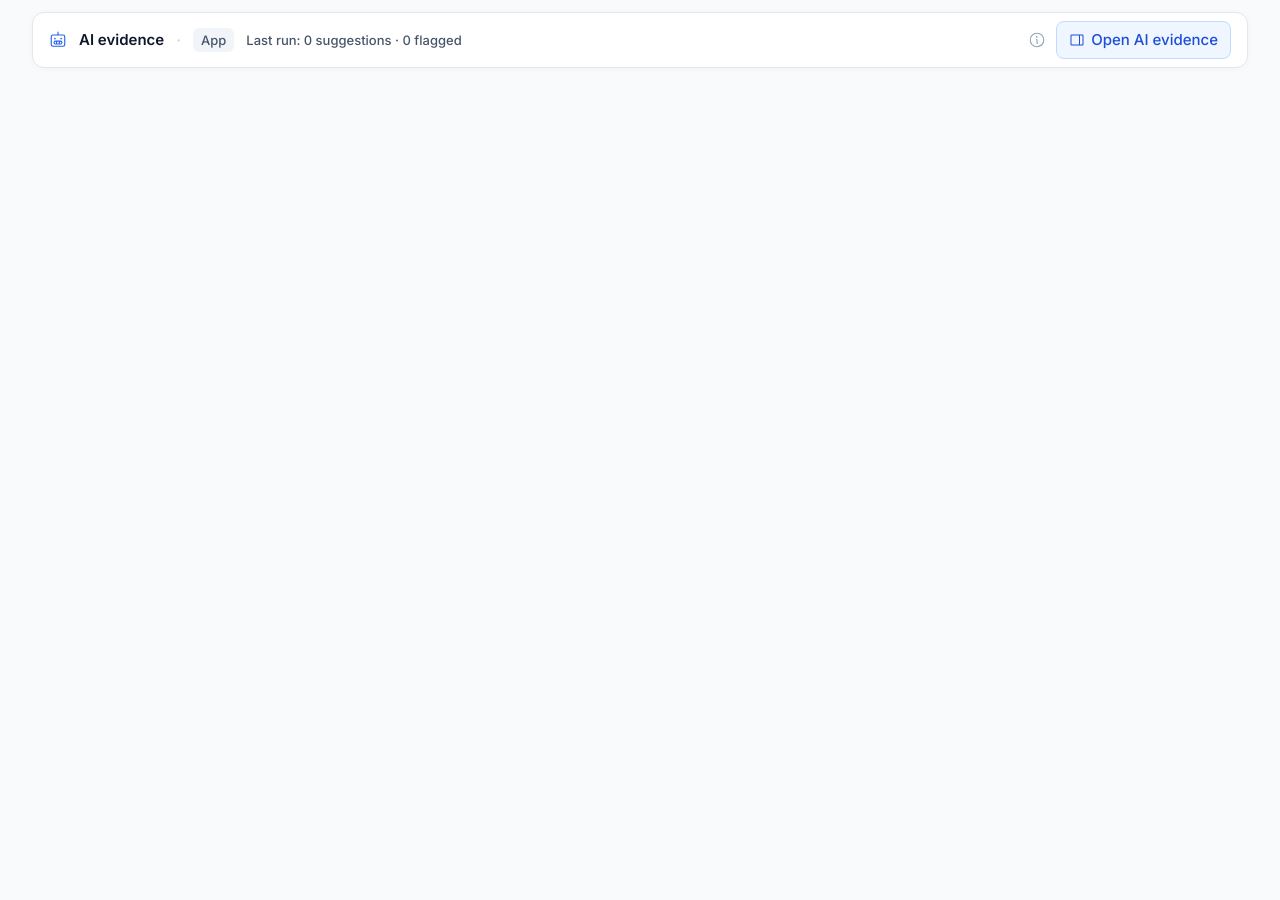
Scenario: App source in the evidence panel › defaults to App when the last result run was an app run
The image size is (1280, 900).
Click the button "Open AI evidence" at (1144, 40), box [1056, 21, 1231, 59]
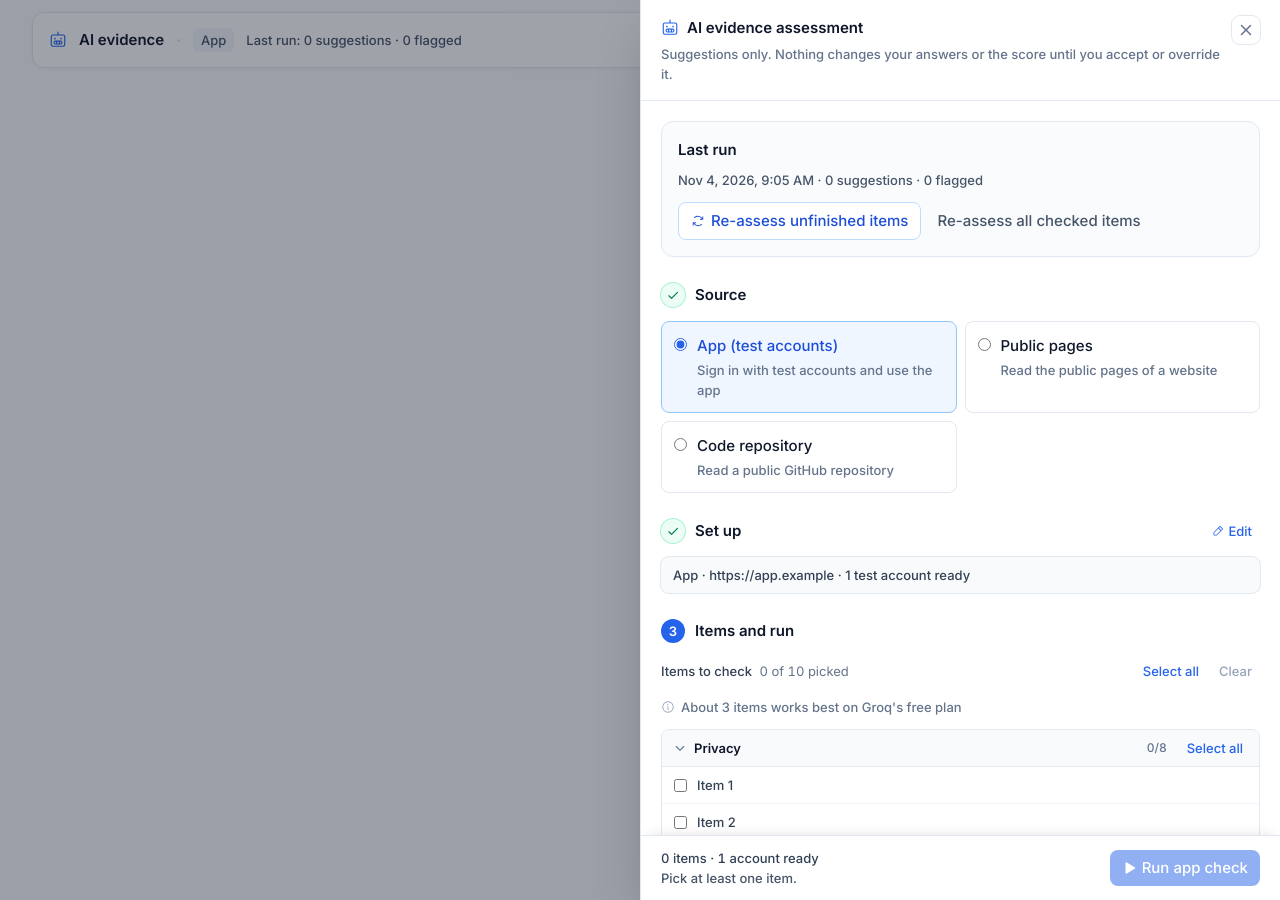
Expected: the radio button labelled "App (test accounts)" is checked, [674, 338, 687, 351]
